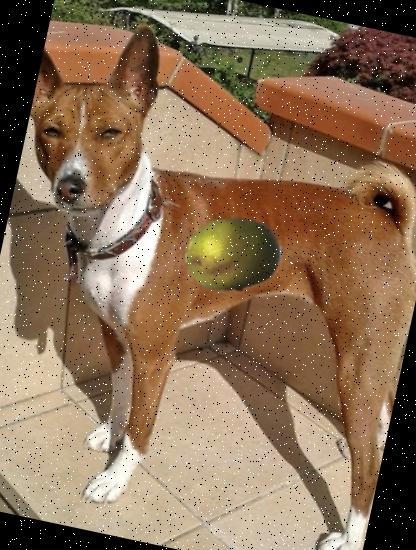Pomelo: (176, 198, 290, 312)
